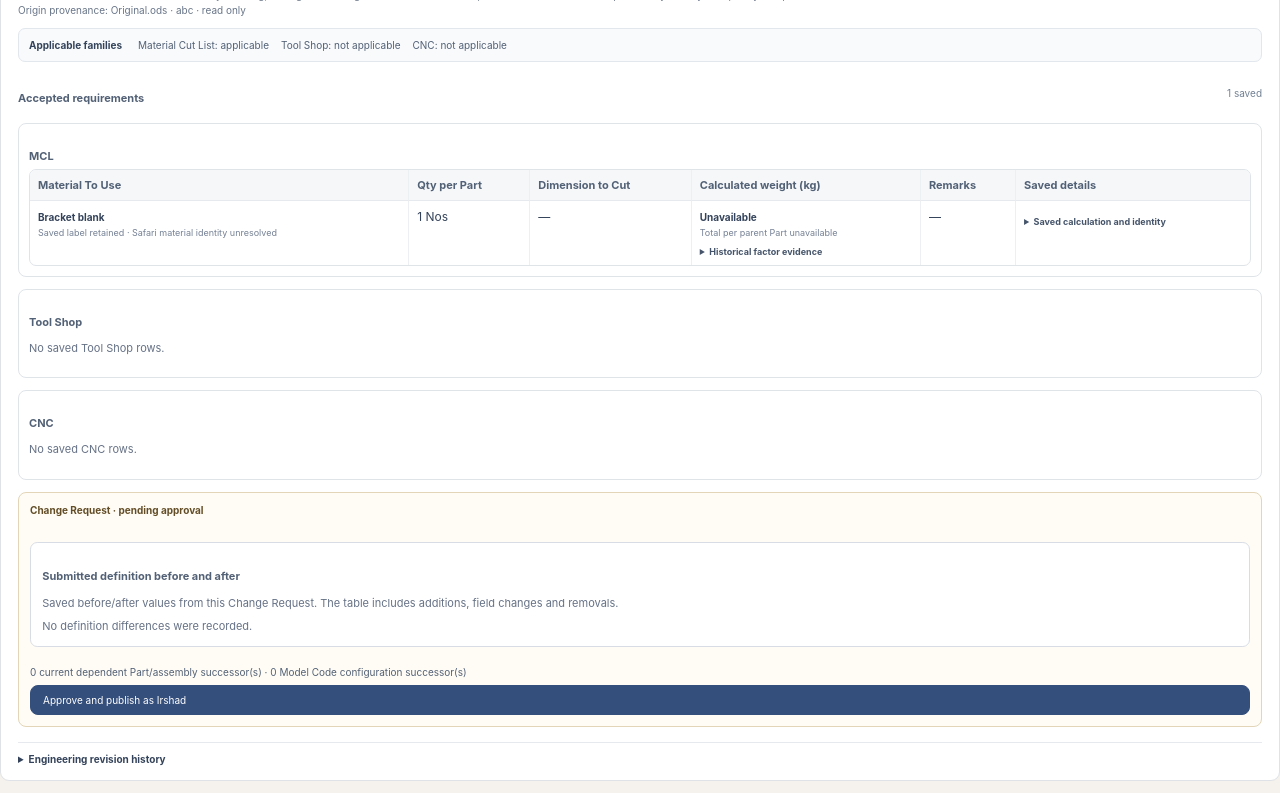
Test case: unlocks a proven safe prewrite approval rejection
The image size is (1280, 793).
(page scrolled)
Click the button "Approve and publish as Irshad".
click(115, 700)  # box [30,685,1250,715]
(page scrolled)
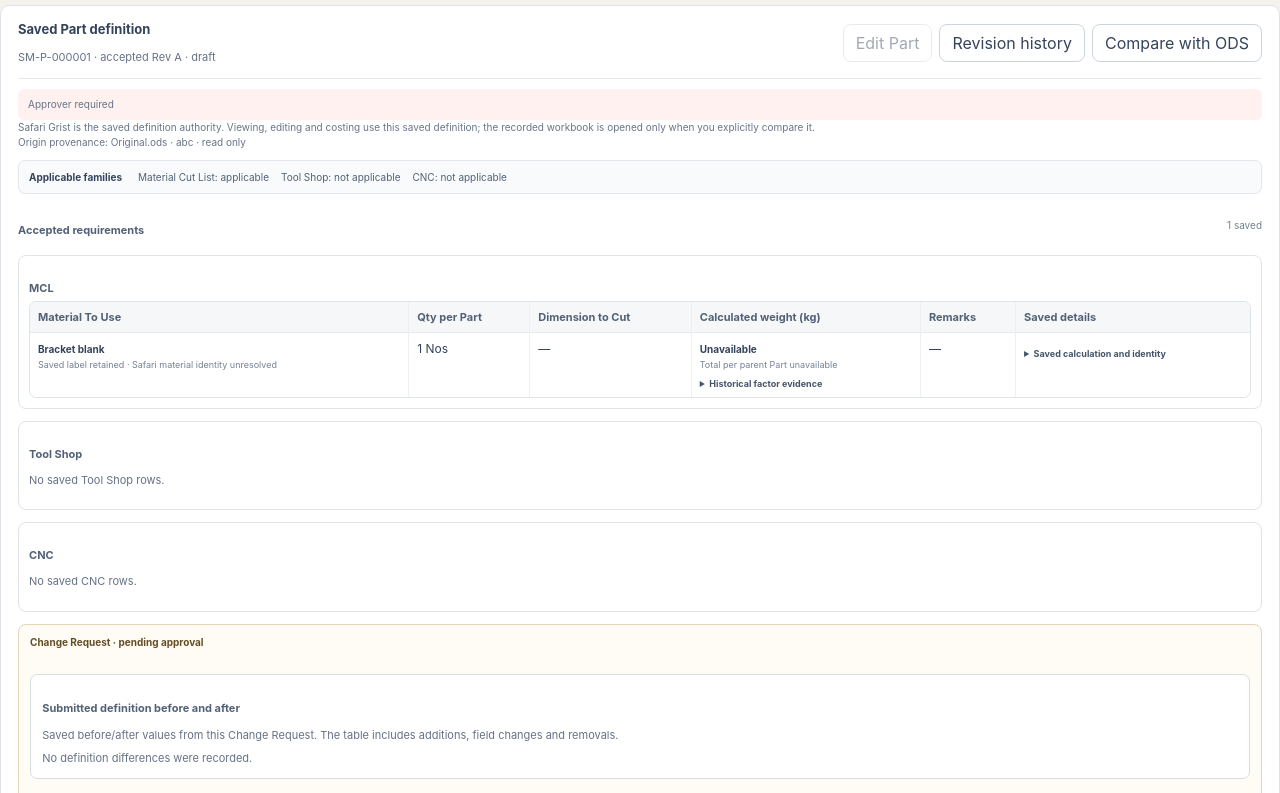
Now the text "Approver required" is shown, box [18,88,1262,120]
